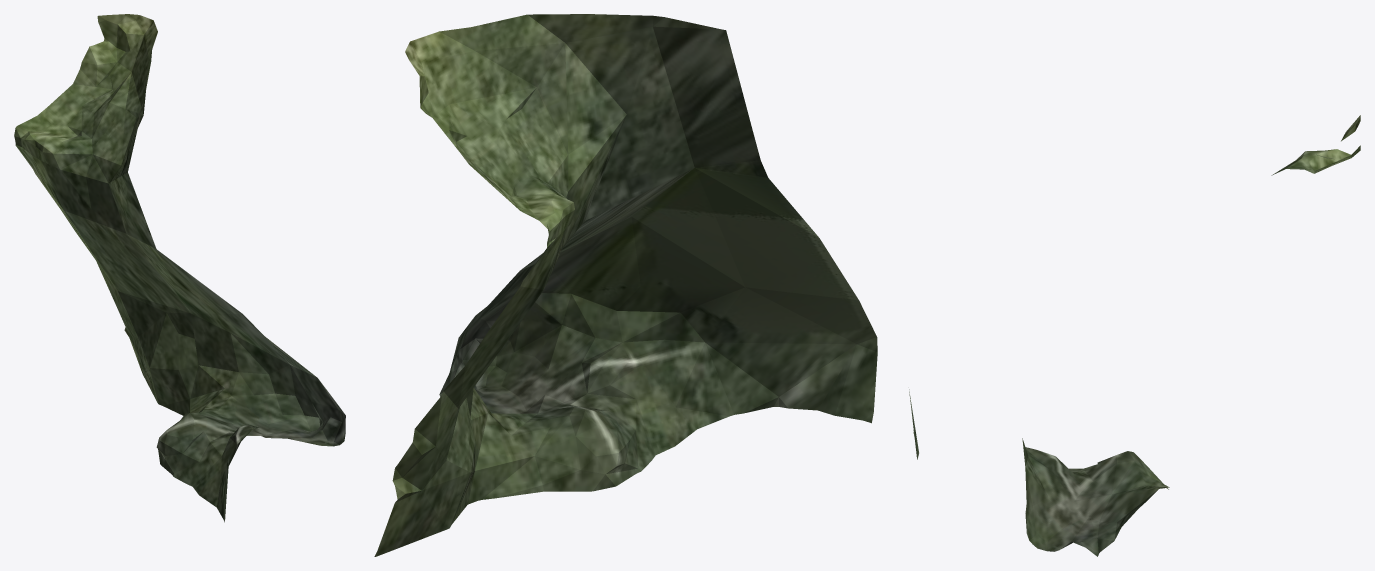
3 views of the same model, side by side, from view 1: azimuth 30°, elevation 25°; view 2: azimuth 150°, elevation 25°; view 3: azimuth 270°, elevation 25° (orthographic). The views are drawn at different scales.
Size of the model in its own units: 4.04 by 5.9 by 5.72.
3 materials, 3 textured.
